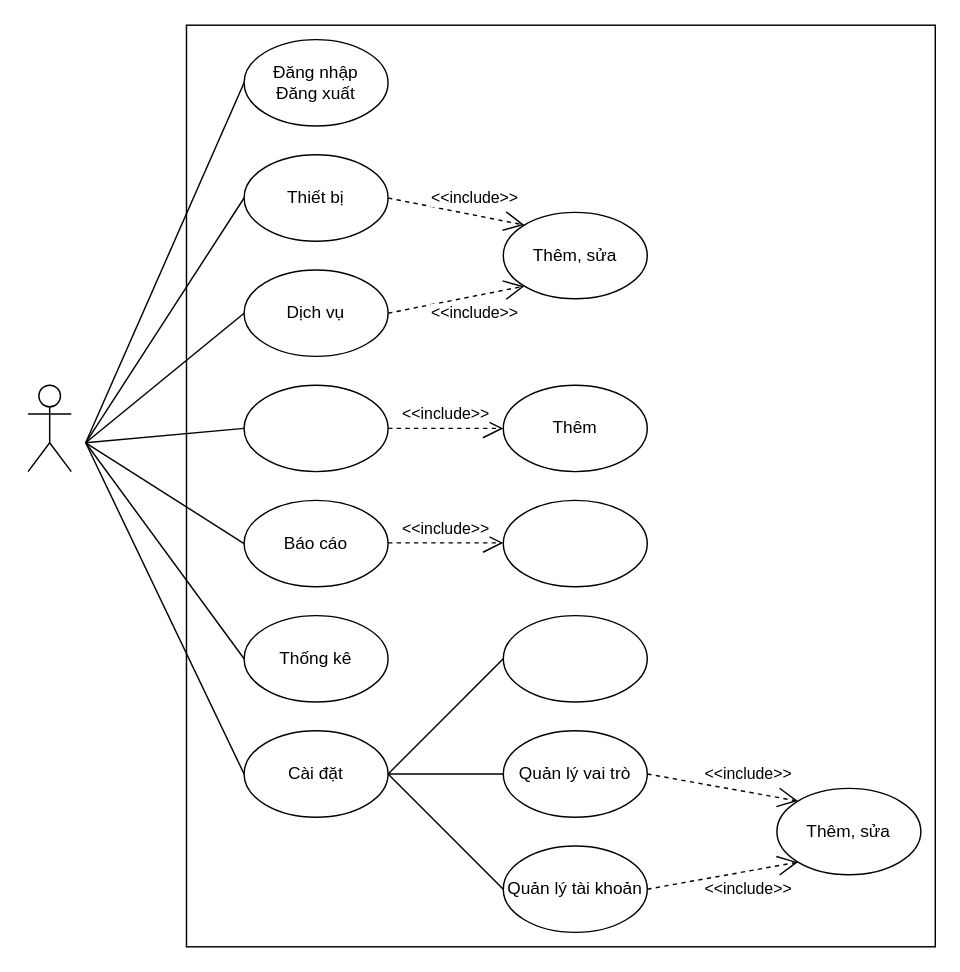
The diagram is 960 pixels wide and 972 high, and some of its shapes have lost their labels. The shapes that lost their labels are listed below. From the top down, each one's centre as x and y in pixels, then its label:
At point 49,428: "Admin".
At point 315,428: "Cấp số".
At point 574,543: "Xuất file".
At point 574,658: "Nhật ký người dùng".
